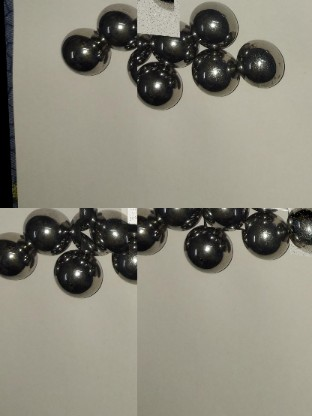ironball: (58, 238, 114, 301), (177, 217, 235, 275), (132, 58, 185, 115), (62, 26, 114, 78), (0, 215, 41, 280), (191, 47, 241, 99), (187, 0, 241, 48), (239, 41, 289, 90), (240, 208, 290, 256), (78, 207, 128, 250), (27, 208, 78, 250), (102, 1, 139, 48), (137, 208, 168, 262), (154, 35, 192, 66), (286, 208, 311, 253), (121, 223, 137, 285), (151, 208, 200, 228), (200, 208, 244, 226)
